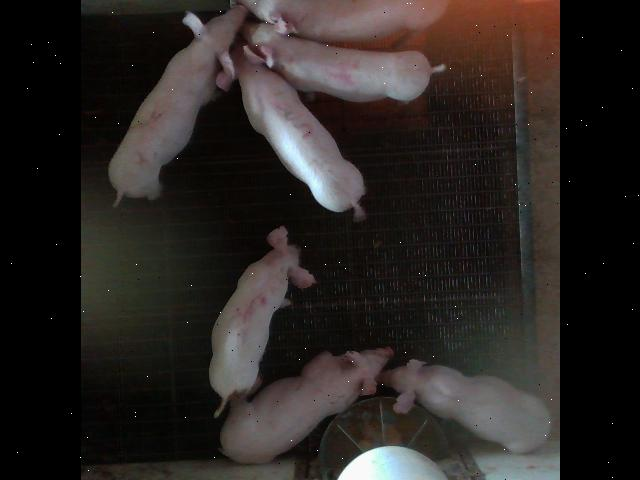pig-3: (230, 45, 365, 221)
pig-4: (240, 21, 444, 102)
pig-5: (209, 226, 314, 418)
